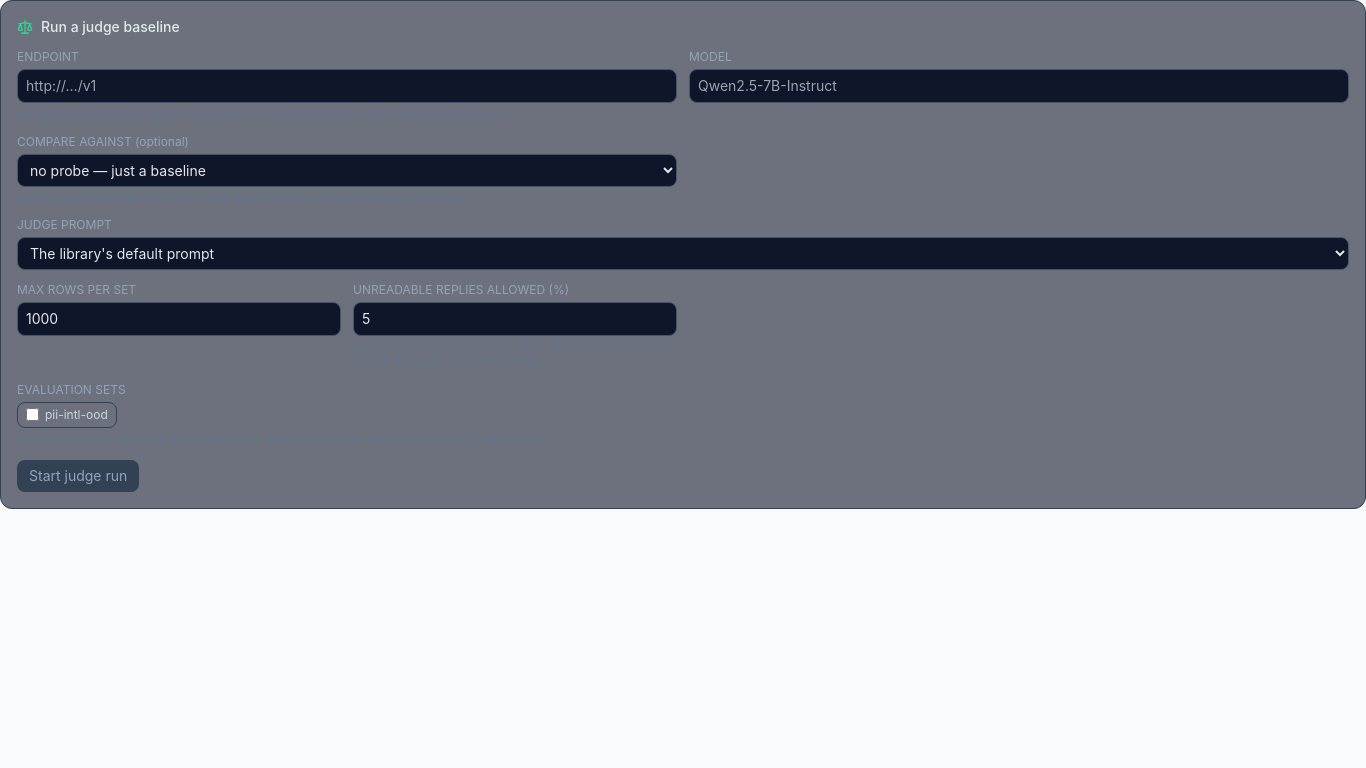
Test: the judge run form picks a prompt by the probe’s behaviour › the matching prompts come first; another behaviour is labelled as not raising the level
Select "pii · layer 11 · mean · dense" in the dropdown with test id "judge-probe" at coordinates (347, 170), box [17,154,677,187]
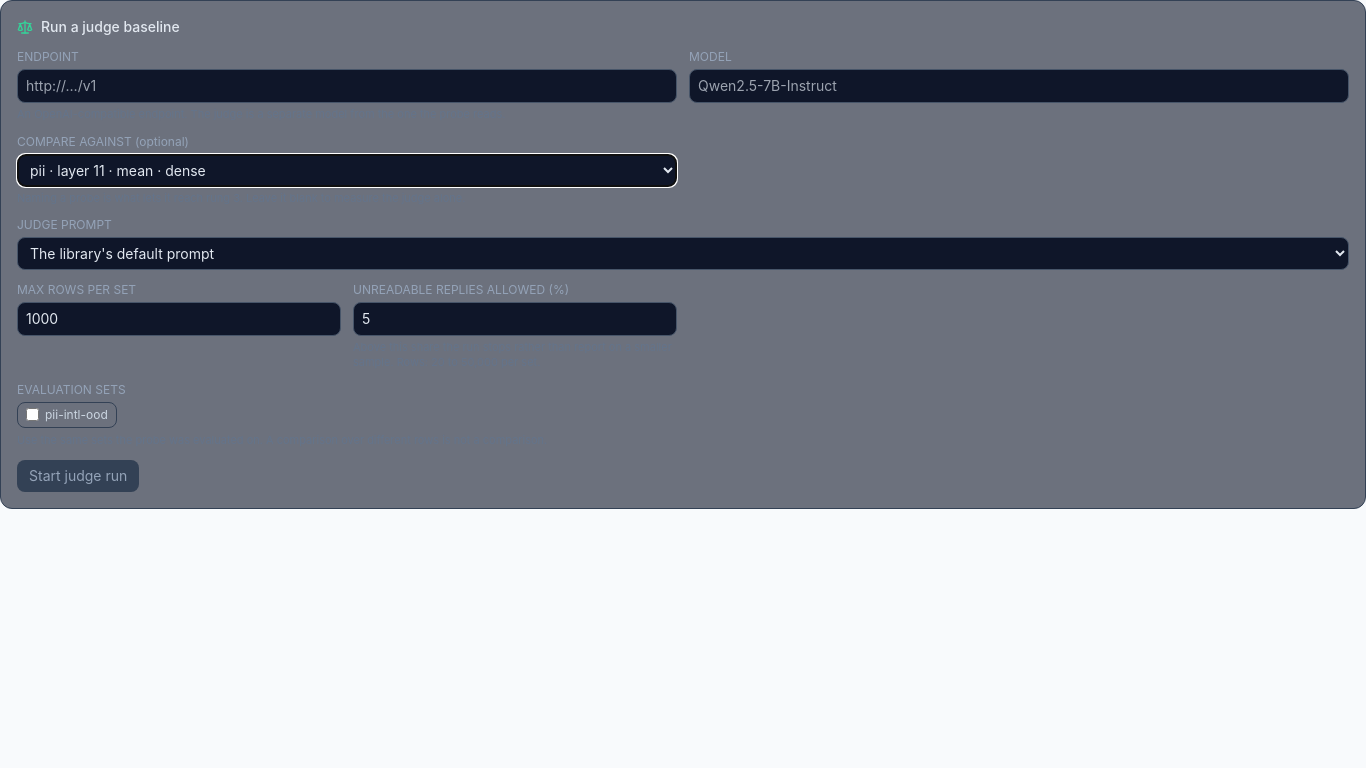
Select "High-stakes interaction (stakes-rating v1, judges high-stakes)" in the dropdown with test id "judge-prompt-picker" at coordinates (683, 254), box [17,237,1349,270]
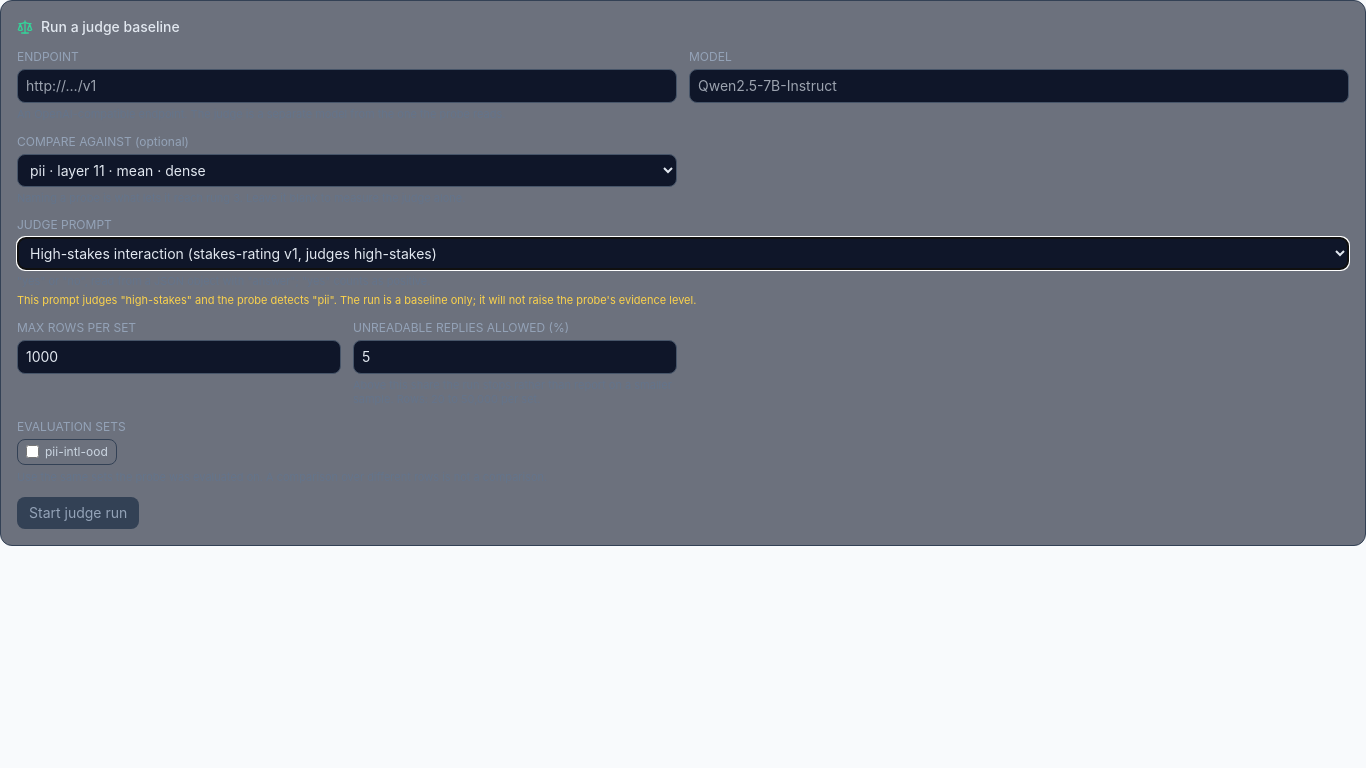
Result: the text with test id "judge-prompt-mismatch" shows "baseline only" at [330,293,696,307]
